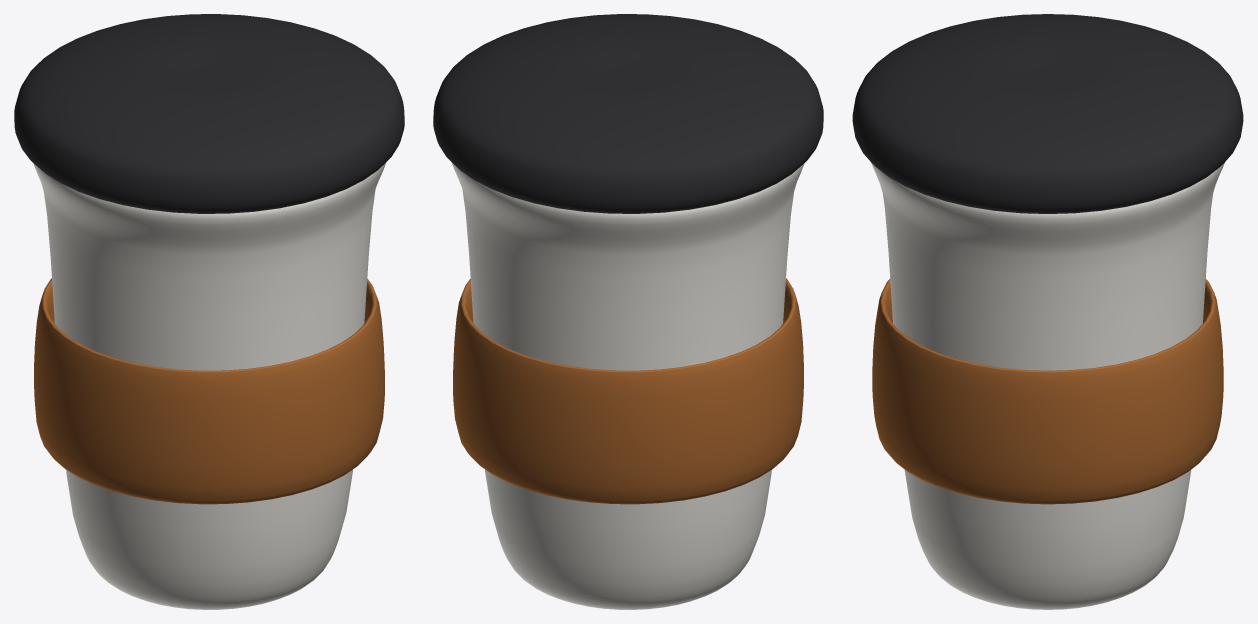
File: coffee_cup.glb
3 renders of one model, left to right at view 1: azimuth 30°, elevation 25°; view 2: azimuth 150°, elevation 25°; view 3: azimuth 270°, elevation 25°, orthographic.
Bounding box in the file's own units: 1 × 1.41 × 1.
